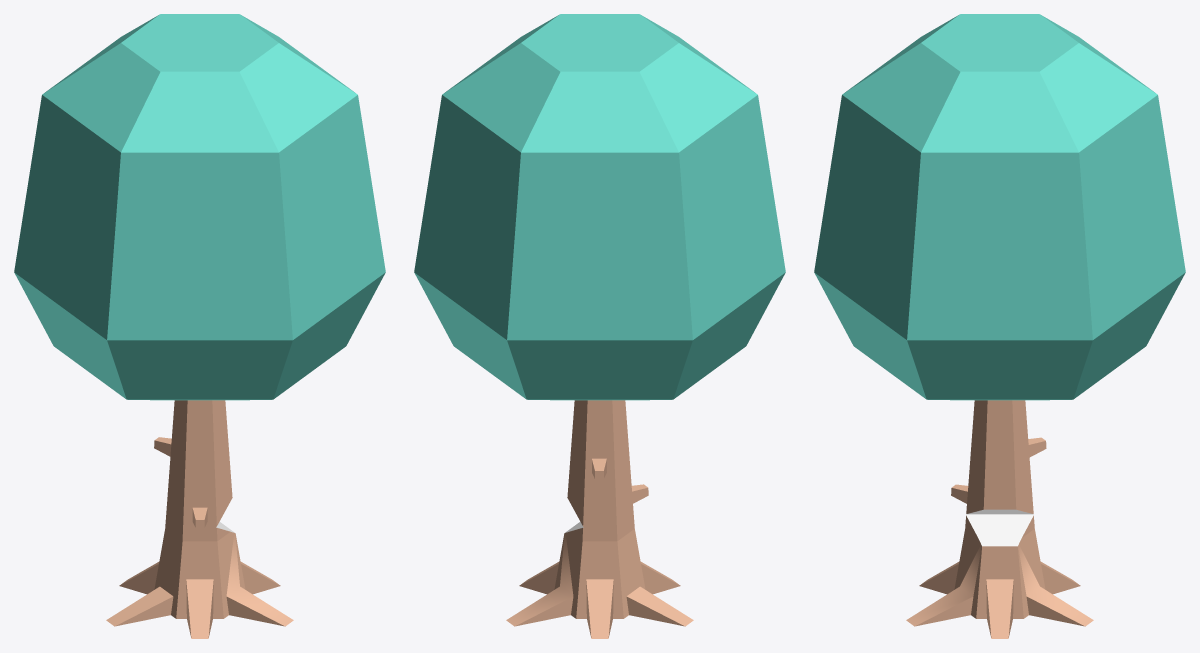
File: tree_stage_50.glb
The picture shows the model from 3 angles, left to right: view 1: azimuth 30°, elevation 25°; view 2: azimuth 150°, elevation 25°; view 3: azimuth 270°, elevation 25°; orthographic projection.
Visible parts, largest first — view 1: TreeStage50; view 2: TreeStage50; view 3: TreeStage50.
Boxes of the visible parts, bbox=[...] form: TreeStage50: bbox=[14, 14, 385, 638]; TreeStage50: bbox=[414, 14, 785, 638]; TreeStage50: bbox=[814, 14, 1185, 638].
Size of the model in its own units: 3.36 by 6.44 by 3.88.
